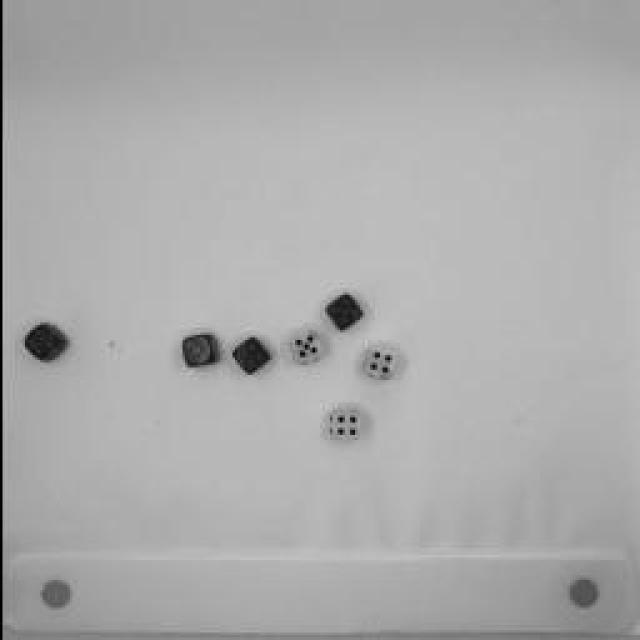dice_3: (172, 330, 222, 375)
dice_4: (316, 403, 366, 445), (228, 335, 272, 380), (356, 341, 402, 381)
dice_5: (320, 291, 365, 334), (284, 330, 326, 370)
dice_6: (22, 318, 68, 362)
